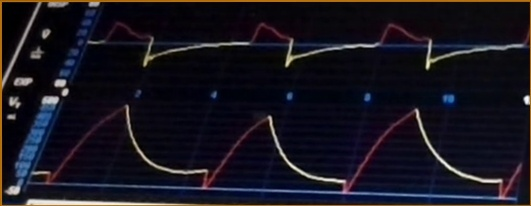Flow: (91, 11, 528, 79)
Leakage Volume: (36, 103, 521, 200)
